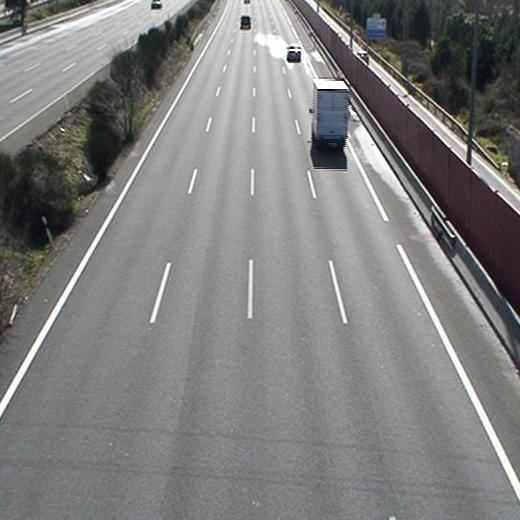car: (287, 43, 302, 61), (240, 14, 252, 29)
small-truck: (312, 79, 350, 151)
